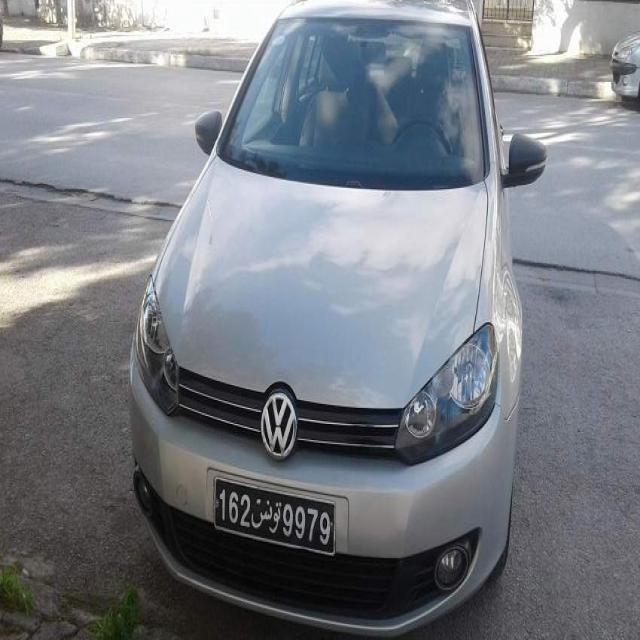licence plate: (214, 478, 335, 556)
